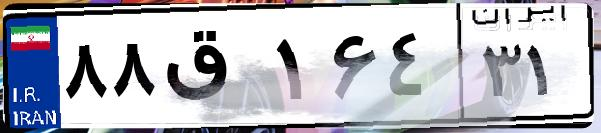1: (270, 28, 330, 110), (525, 38, 570, 115)
3: (475, 38, 525, 113)
4: (385, 28, 445, 110)
6: (330, 28, 385, 110)
8: (57, 26, 110, 100), (110, 28, 158, 98)
ق: (158, 20, 270, 120)
